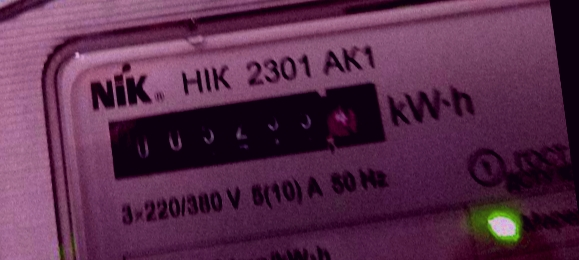0: (162, 120, 186, 155), (131, 128, 153, 162)
2: (227, 108, 253, 144)
3: (259, 101, 287, 137)
4: (327, 92, 354, 131)
5: (292, 96, 319, 135), (196, 114, 219, 149)
screen: (88, 67, 399, 194)
